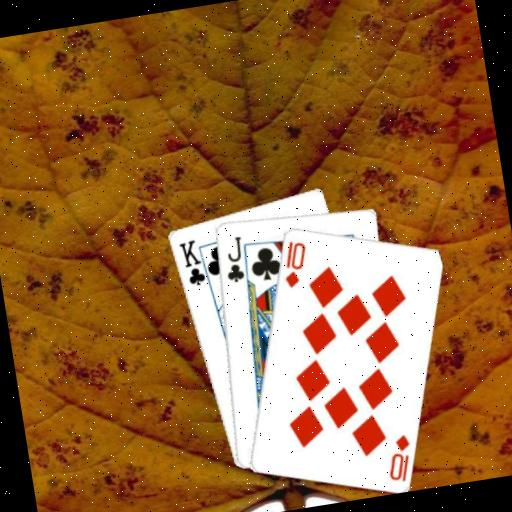10D: (379, 429, 417, 485), (275, 235, 313, 290)
JC: (217, 232, 248, 284)
KC: (174, 234, 213, 292)
